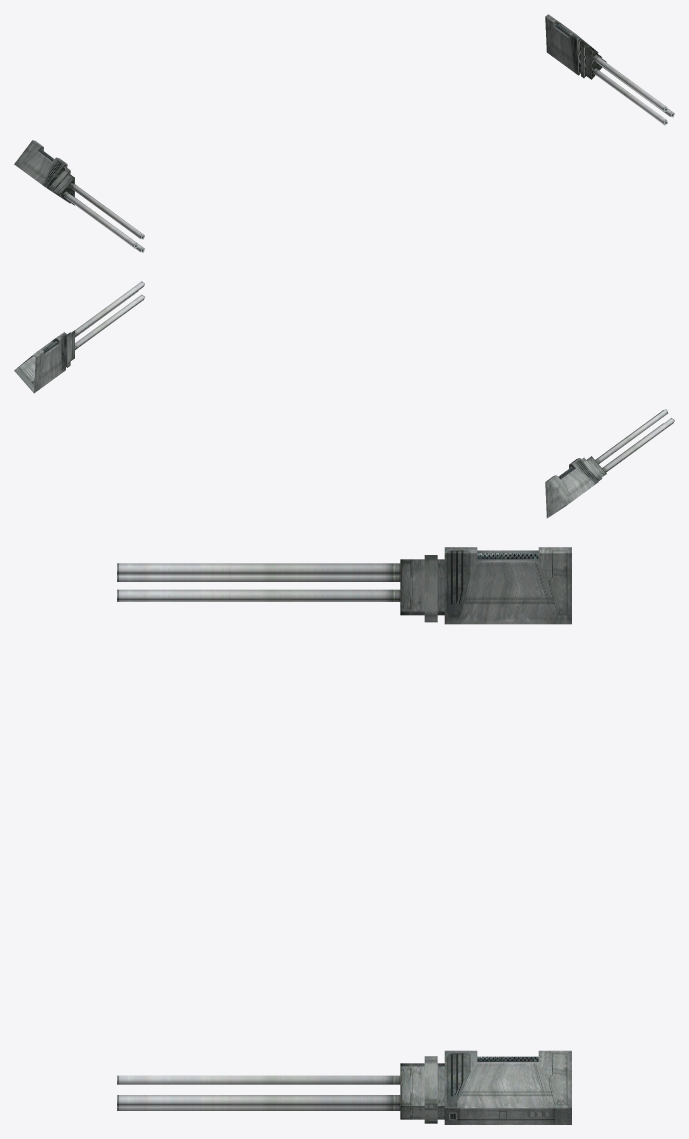
The model's file is black_sun_fighter_light_weapon_s04_l1.fbx.
3 views of the same model, one above another, from view 1: azimuth 30°, elevation 25°; view 2: azimuth 150°, elevation 25°; view 3: azimuth 270°, elevation 25° (orthographic). The views are drawn at different scales.
Visible parts, largest first — view 1: mesh_node; view 2: mesh_node; view 3: mesh_node.
Part boxes in pixels (box(x1,y1,x2,y2)): mesh_node: box(14, 14, 674, 252); mesh_node: box(14, 281, 674, 518); mesh_node: box(117, 547, 571, 1124).
Bounding box in the file's own units: 11.7 × 0.765 × 4.17.
